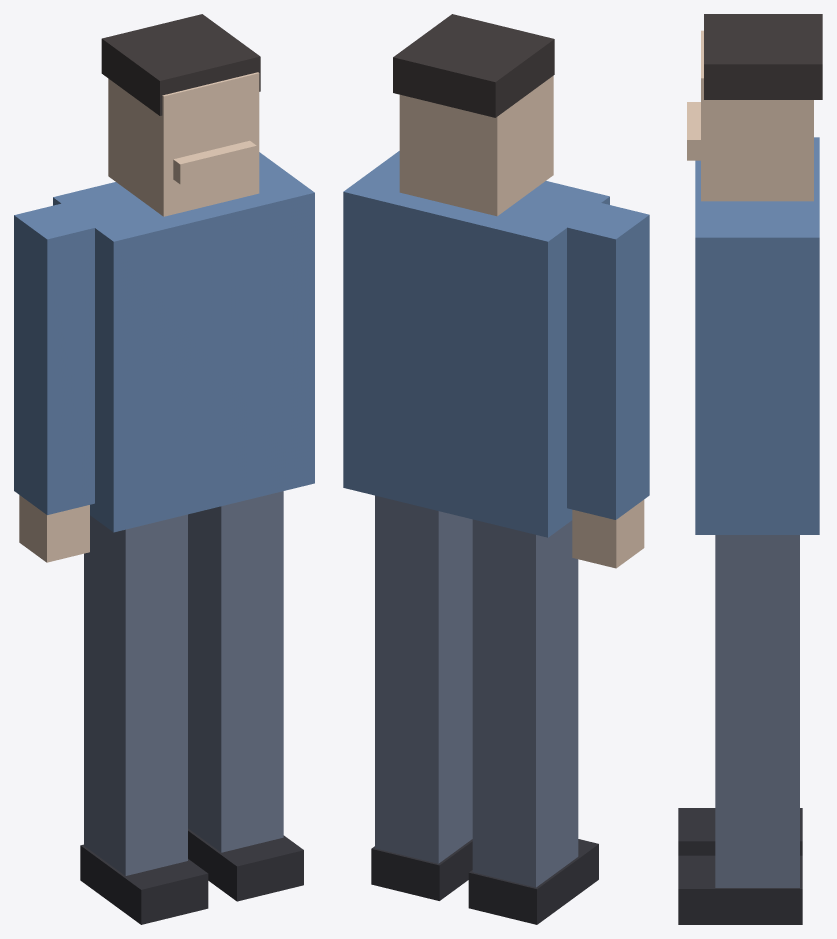
File: player.glb
The picture shows the model from 3 angles, left to right: view 1: azimuth 30°, elevation 25°; view 2: azimuth 150°, elevation 25°; view 3: azimuth 270°, elevation 25°; orthographic projection. The views are drawn at different scales.
Visible parts, largest first — view 1: player; view 2: player; view 3: player.
Boxes of the visible parts, <box> form: player: <box>14,14,314,924</box>; player: <box>343,14,649,924</box>; player: <box>678,14,822,924</box>.
Bounding box in the file's own units: 0.53 × 1.65 × 0.255.
